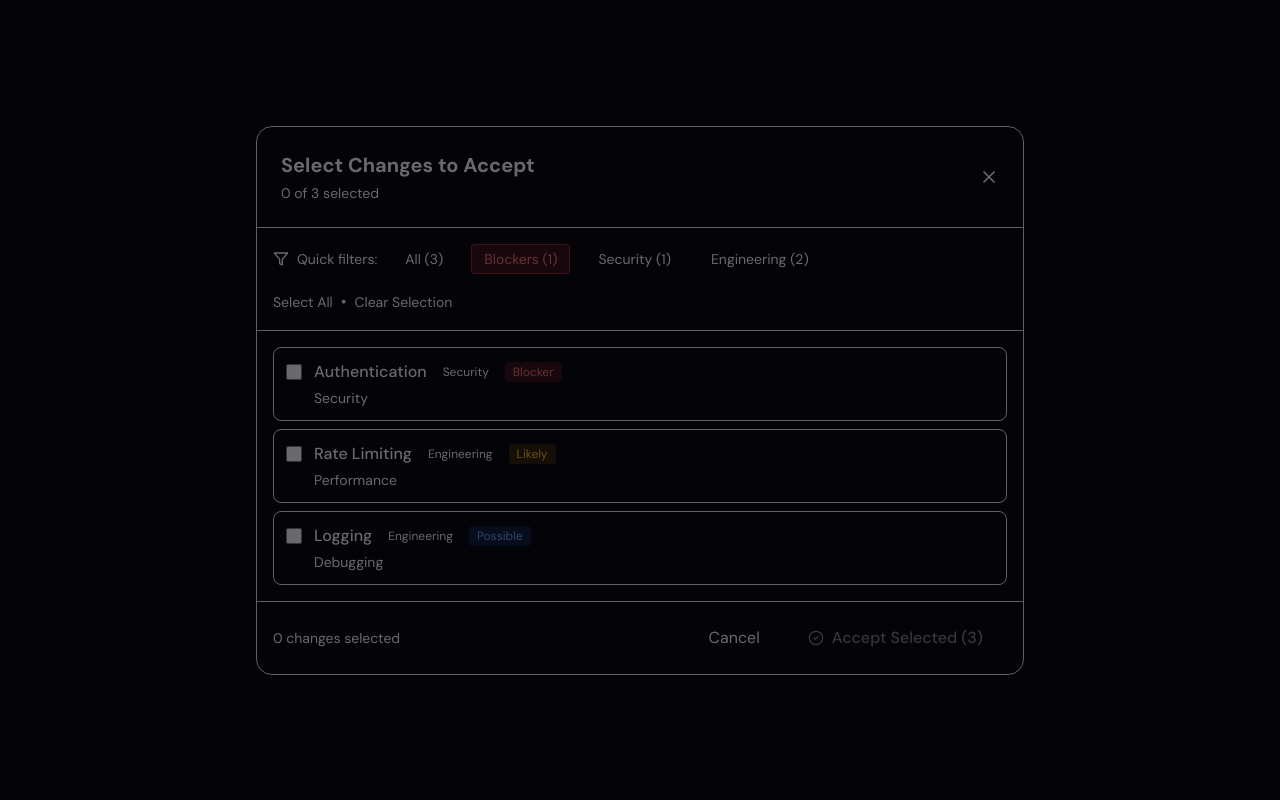
Test: BulkAcceptPanel › shows accept button with count
Note: Select two changes
What coordinates should you click on to do the following:
click the checkbox labelled "Authentication security blocker Security"
I would click on:
 (294, 372)
Its box is [286,364,302,380].
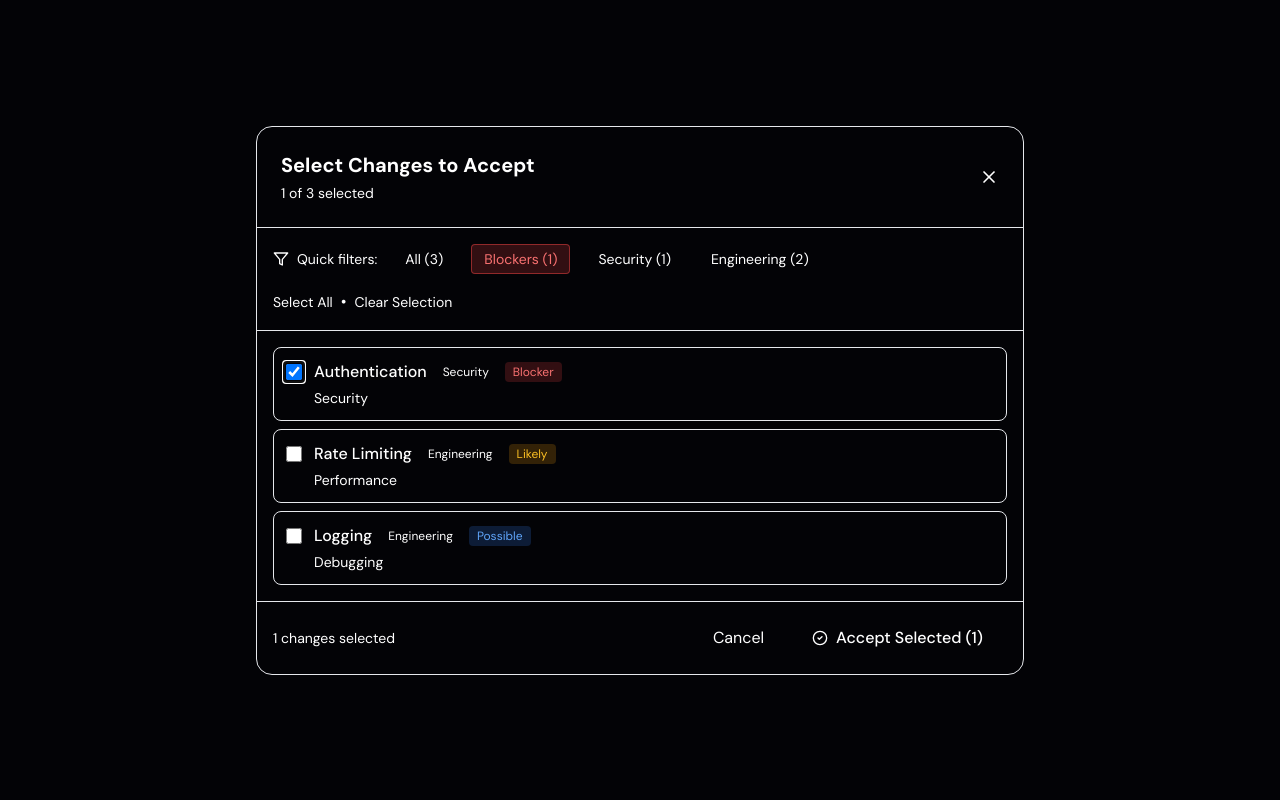
What coordinates should you click on to do the following:
click the checkbox labelled "Rate Limiting engineering likely Performance"
I would click on:
 (294, 454)
Its box is [286,446,302,462].
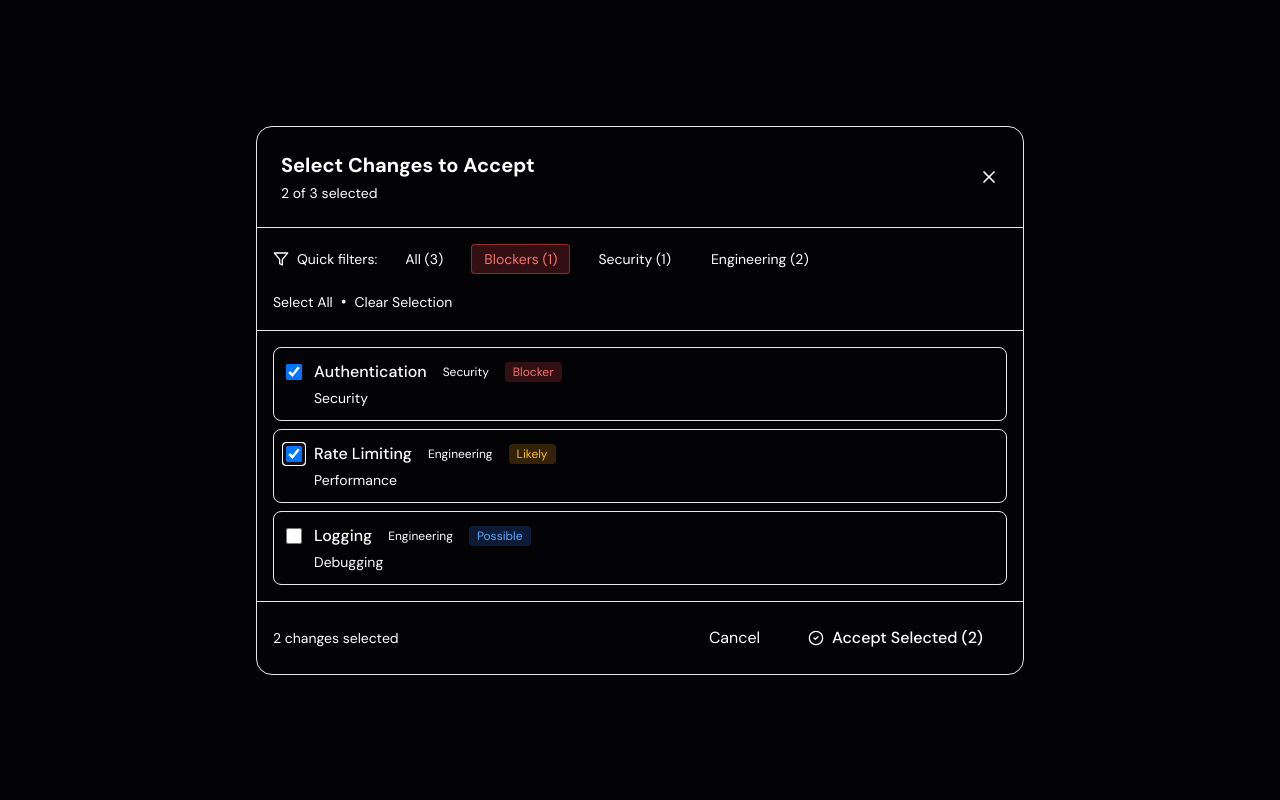
Now the button "Accept Selected (2)" is shown, box [784,618,1007,658]
